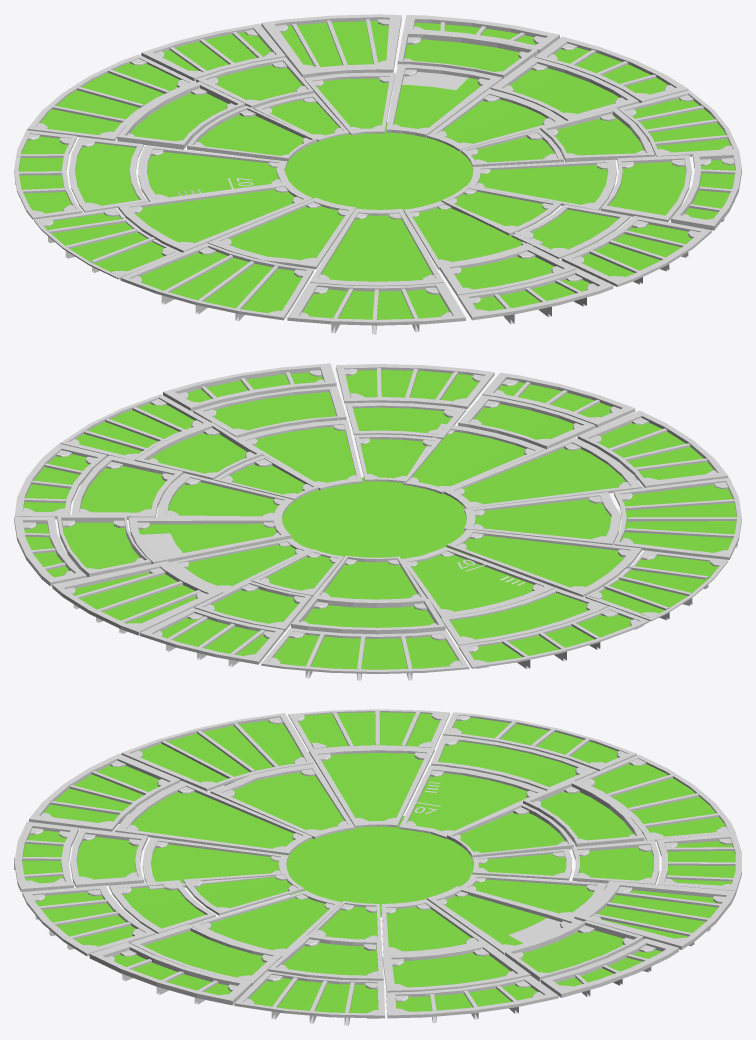
The model's file is FloorOnly.fbx.
3 renders of one model, top to bottom at view 1: azimuth 30°, elevation 25°; view 2: azimuth 150°, elevation 25°; view 3: azimuth 270°, elevation 25°, orthographic.
Parts seen in each view (by area): view 1: Floor; view 2: Floor; view 3: Floor.
Part boxes in pixels (x1=…): Floor: x1=14, y1=14, x2=741, y2=334; Floor: x1=14, y1=363, x2=741, y2=680; Floor: x1=14, y1=709, x2=741, y2=1025.
Size of the model in its own units: 5288 by 114 by 5283.
